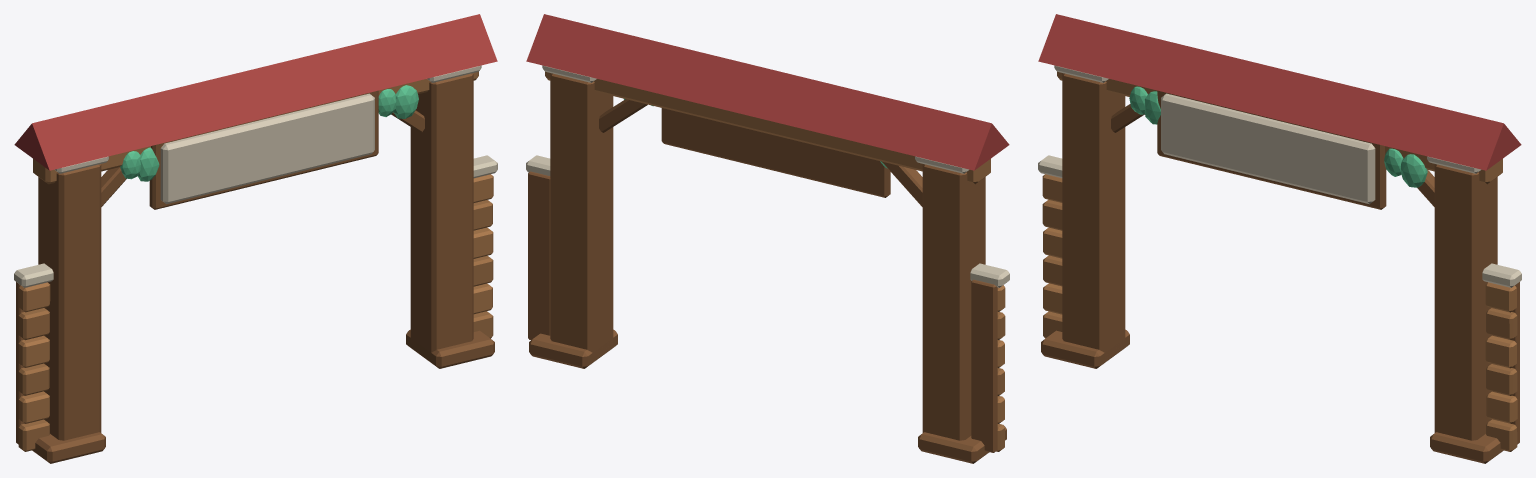
Rendered from phoenix_gate.fbx.
3 views of the same model, side by side, from view 1: azimuth 30°, elevation 25°; view 2: azimuth 150°, elevation 25°; view 3: azimuth 330°, elevation 25° (orthographic).
Visible parts, largest first — view 1: phoenix_gate; view 2: phoenix_gate; view 3: phoenix_gate.
Part boxes in pixels (bbox=[...]): phoenix_gate: bbox=[14, 14, 497, 463]; phoenix_gate: bbox=[526, 14, 1009, 463]; phoenix_gate: bbox=[1038, 14, 1521, 463].
Bounding box in the file's own units: 20.2 × 13.4 × 2.6.
